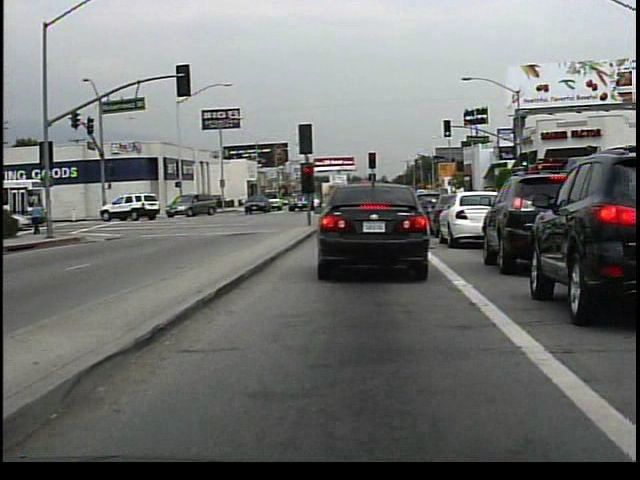person: (31, 198, 49, 239), (240, 188, 249, 210)
